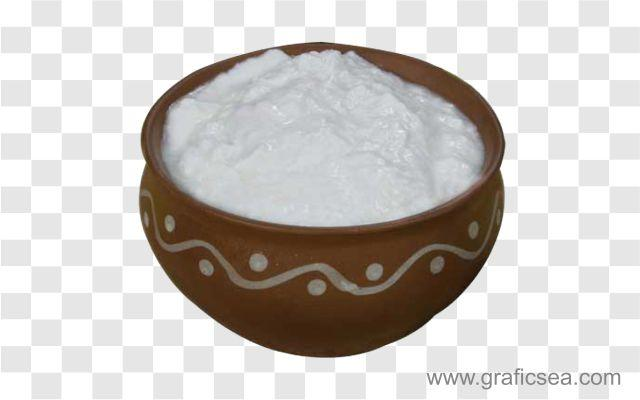yogurt: (163, 50, 493, 254)
